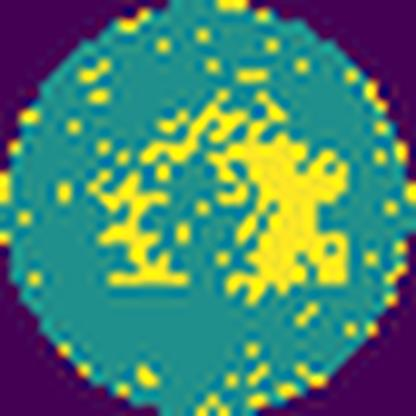Donut: (86, 79, 362, 307)
